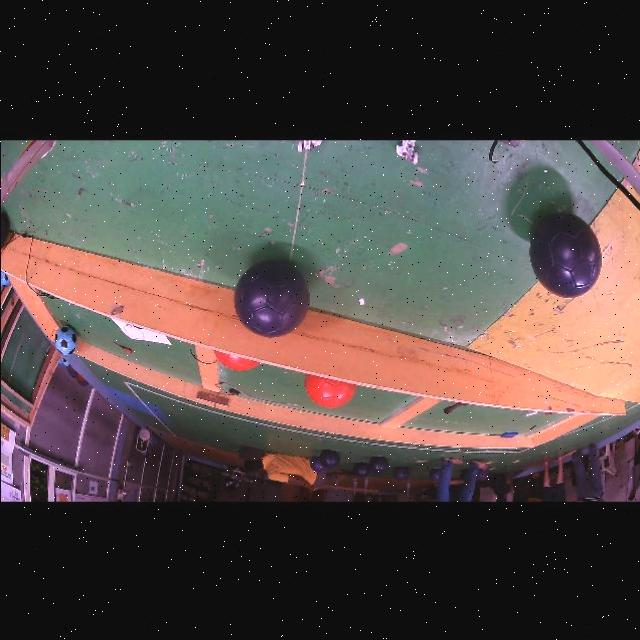B: (528, 211, 601, 297), (231, 259, 308, 336)
